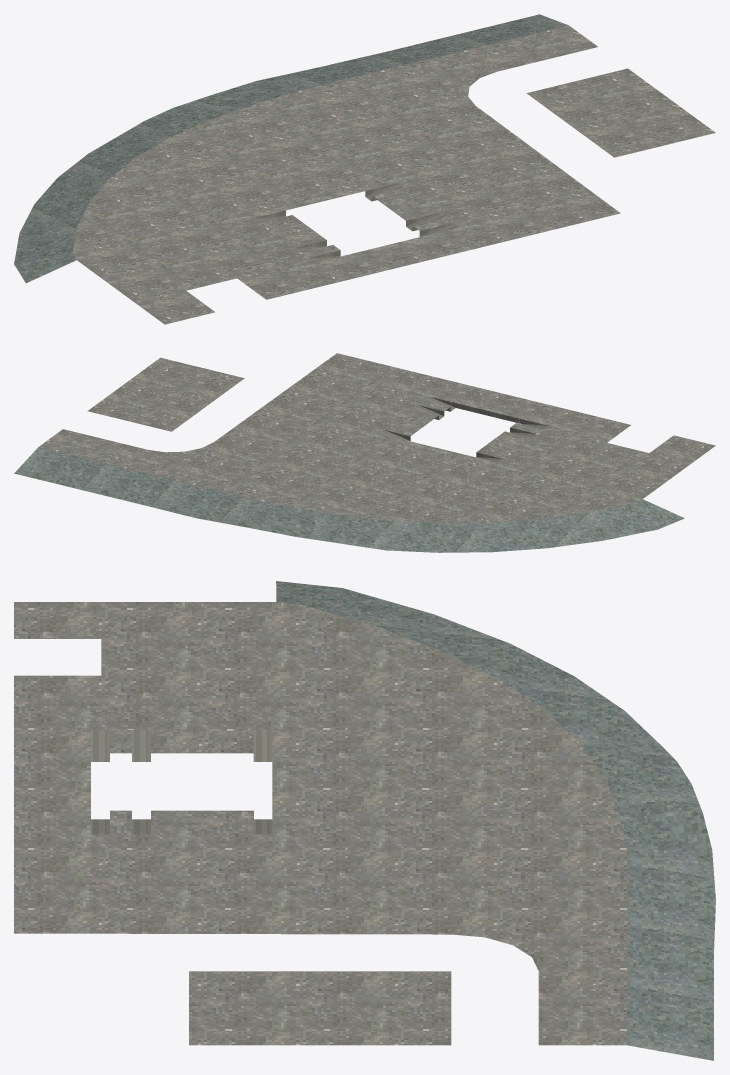
File: lodasnland11.obj
The picture shows the model from 3 angles, top to bottom: view 1: azimuth 30°, elevation 25°; view 2: azimuth 150°, elevation 25°; view 3: azimuth 270°, elevation 25°; orthographic projection. The views are drawn at different scales.
Visible parts, largest first — view 1: lodasNland11; view 2: lodasNland11; view 3: lodasNland11.
Part boxes in pixels (bbox=[...]): lodasNland11: bbox=[14, 14, 715, 324]; lodasNland11: bbox=[14, 353, 715, 552]; lodasNland11: bbox=[14, 581, 715, 1060].
Bounding box in the file's own units: 260 × 4.16 × 161.
Materials: 2 (2 with a texture image).
